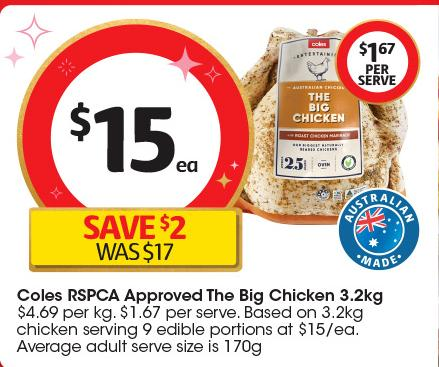description_block: (8, 278, 399, 307)
price_main: (31, 43, 233, 206)
product_image_block: (223, 17, 420, 232)
promo_text_block: (28, 207, 247, 269)
unit_price_block: (10, 296, 128, 322)
